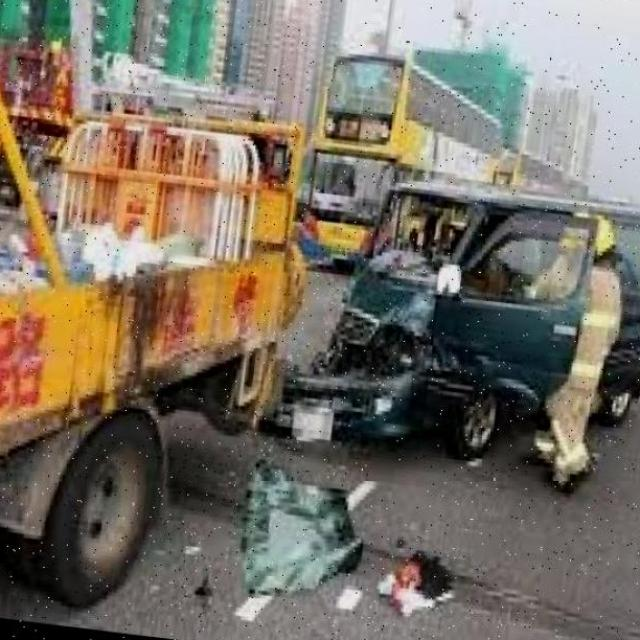accident: (268, 162, 512, 498)
